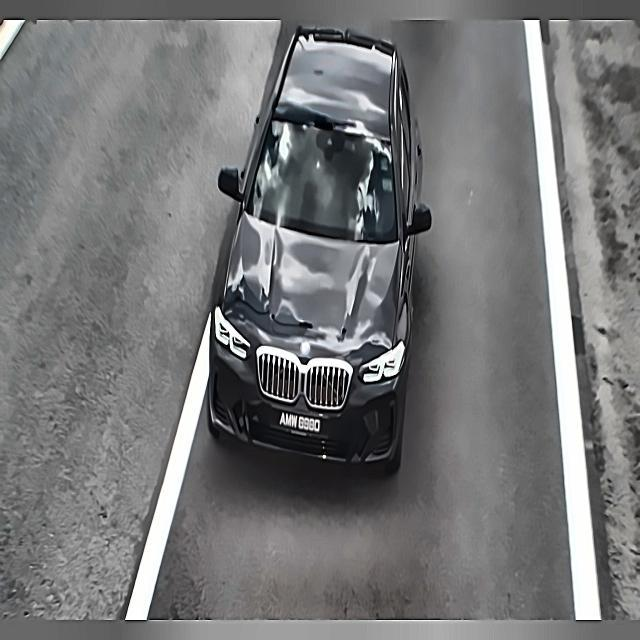car: (276, 406, 324, 443)
